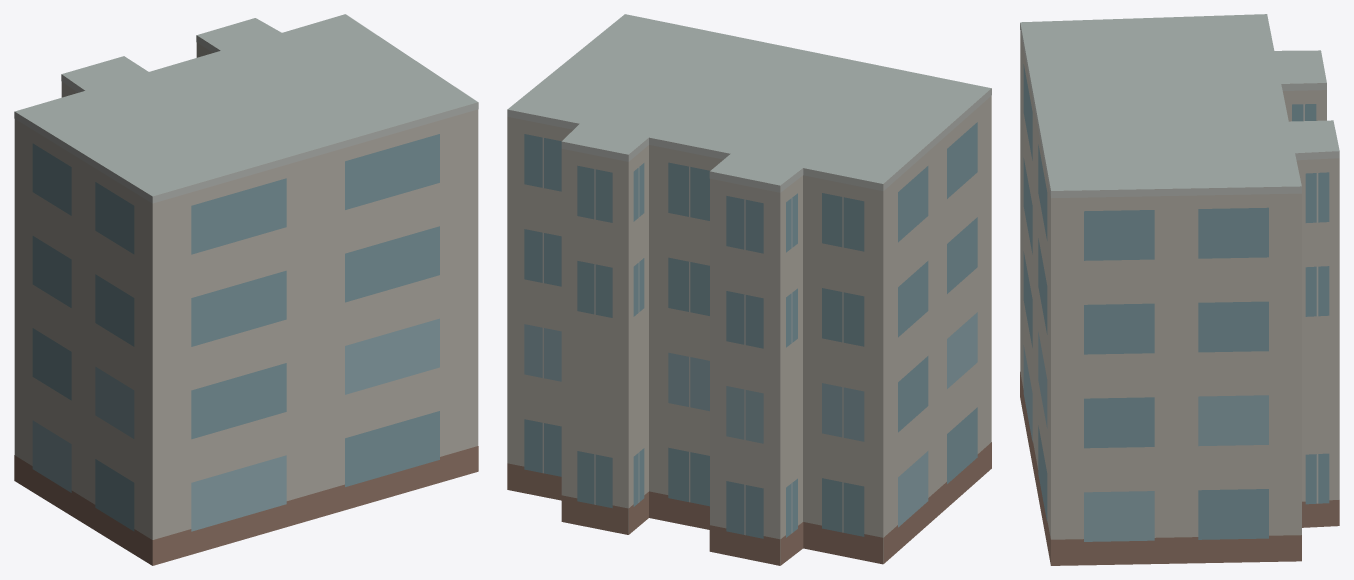
Rendered from survey-upis-32652883.glb.
3 views of the same model, side by side, from view 1: azimuth 30°, elevation 25°; view 2: azimuth 150°, elevation 25°; view 3: azimuth 270°, elevation 25° (orthographic). The views are drawn at different scales.
Parts seen in each view (by area): view 1: survey-upis-32652883.tmp; view 2: survey-upis-32652883.tmp; view 3: survey-upis-32652883.tmp.
Part boxes in pixels (bbox=[...]): survey-upis-32652883.tmp: bbox=[14, 14, 478, 565]; survey-upis-32652883.tmp: bbox=[507, 14, 991, 565]; survey-upis-32652883.tmp: bbox=[1020, 14, 1339, 565].
Bounding box in the file's own units: 12.97 × 12.8 × 9.9.
